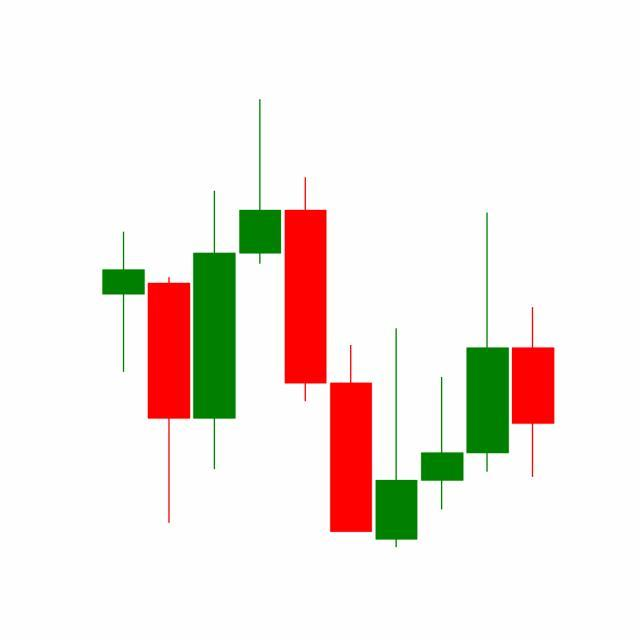Hikkake Pattern: (283, 174, 512, 549)
